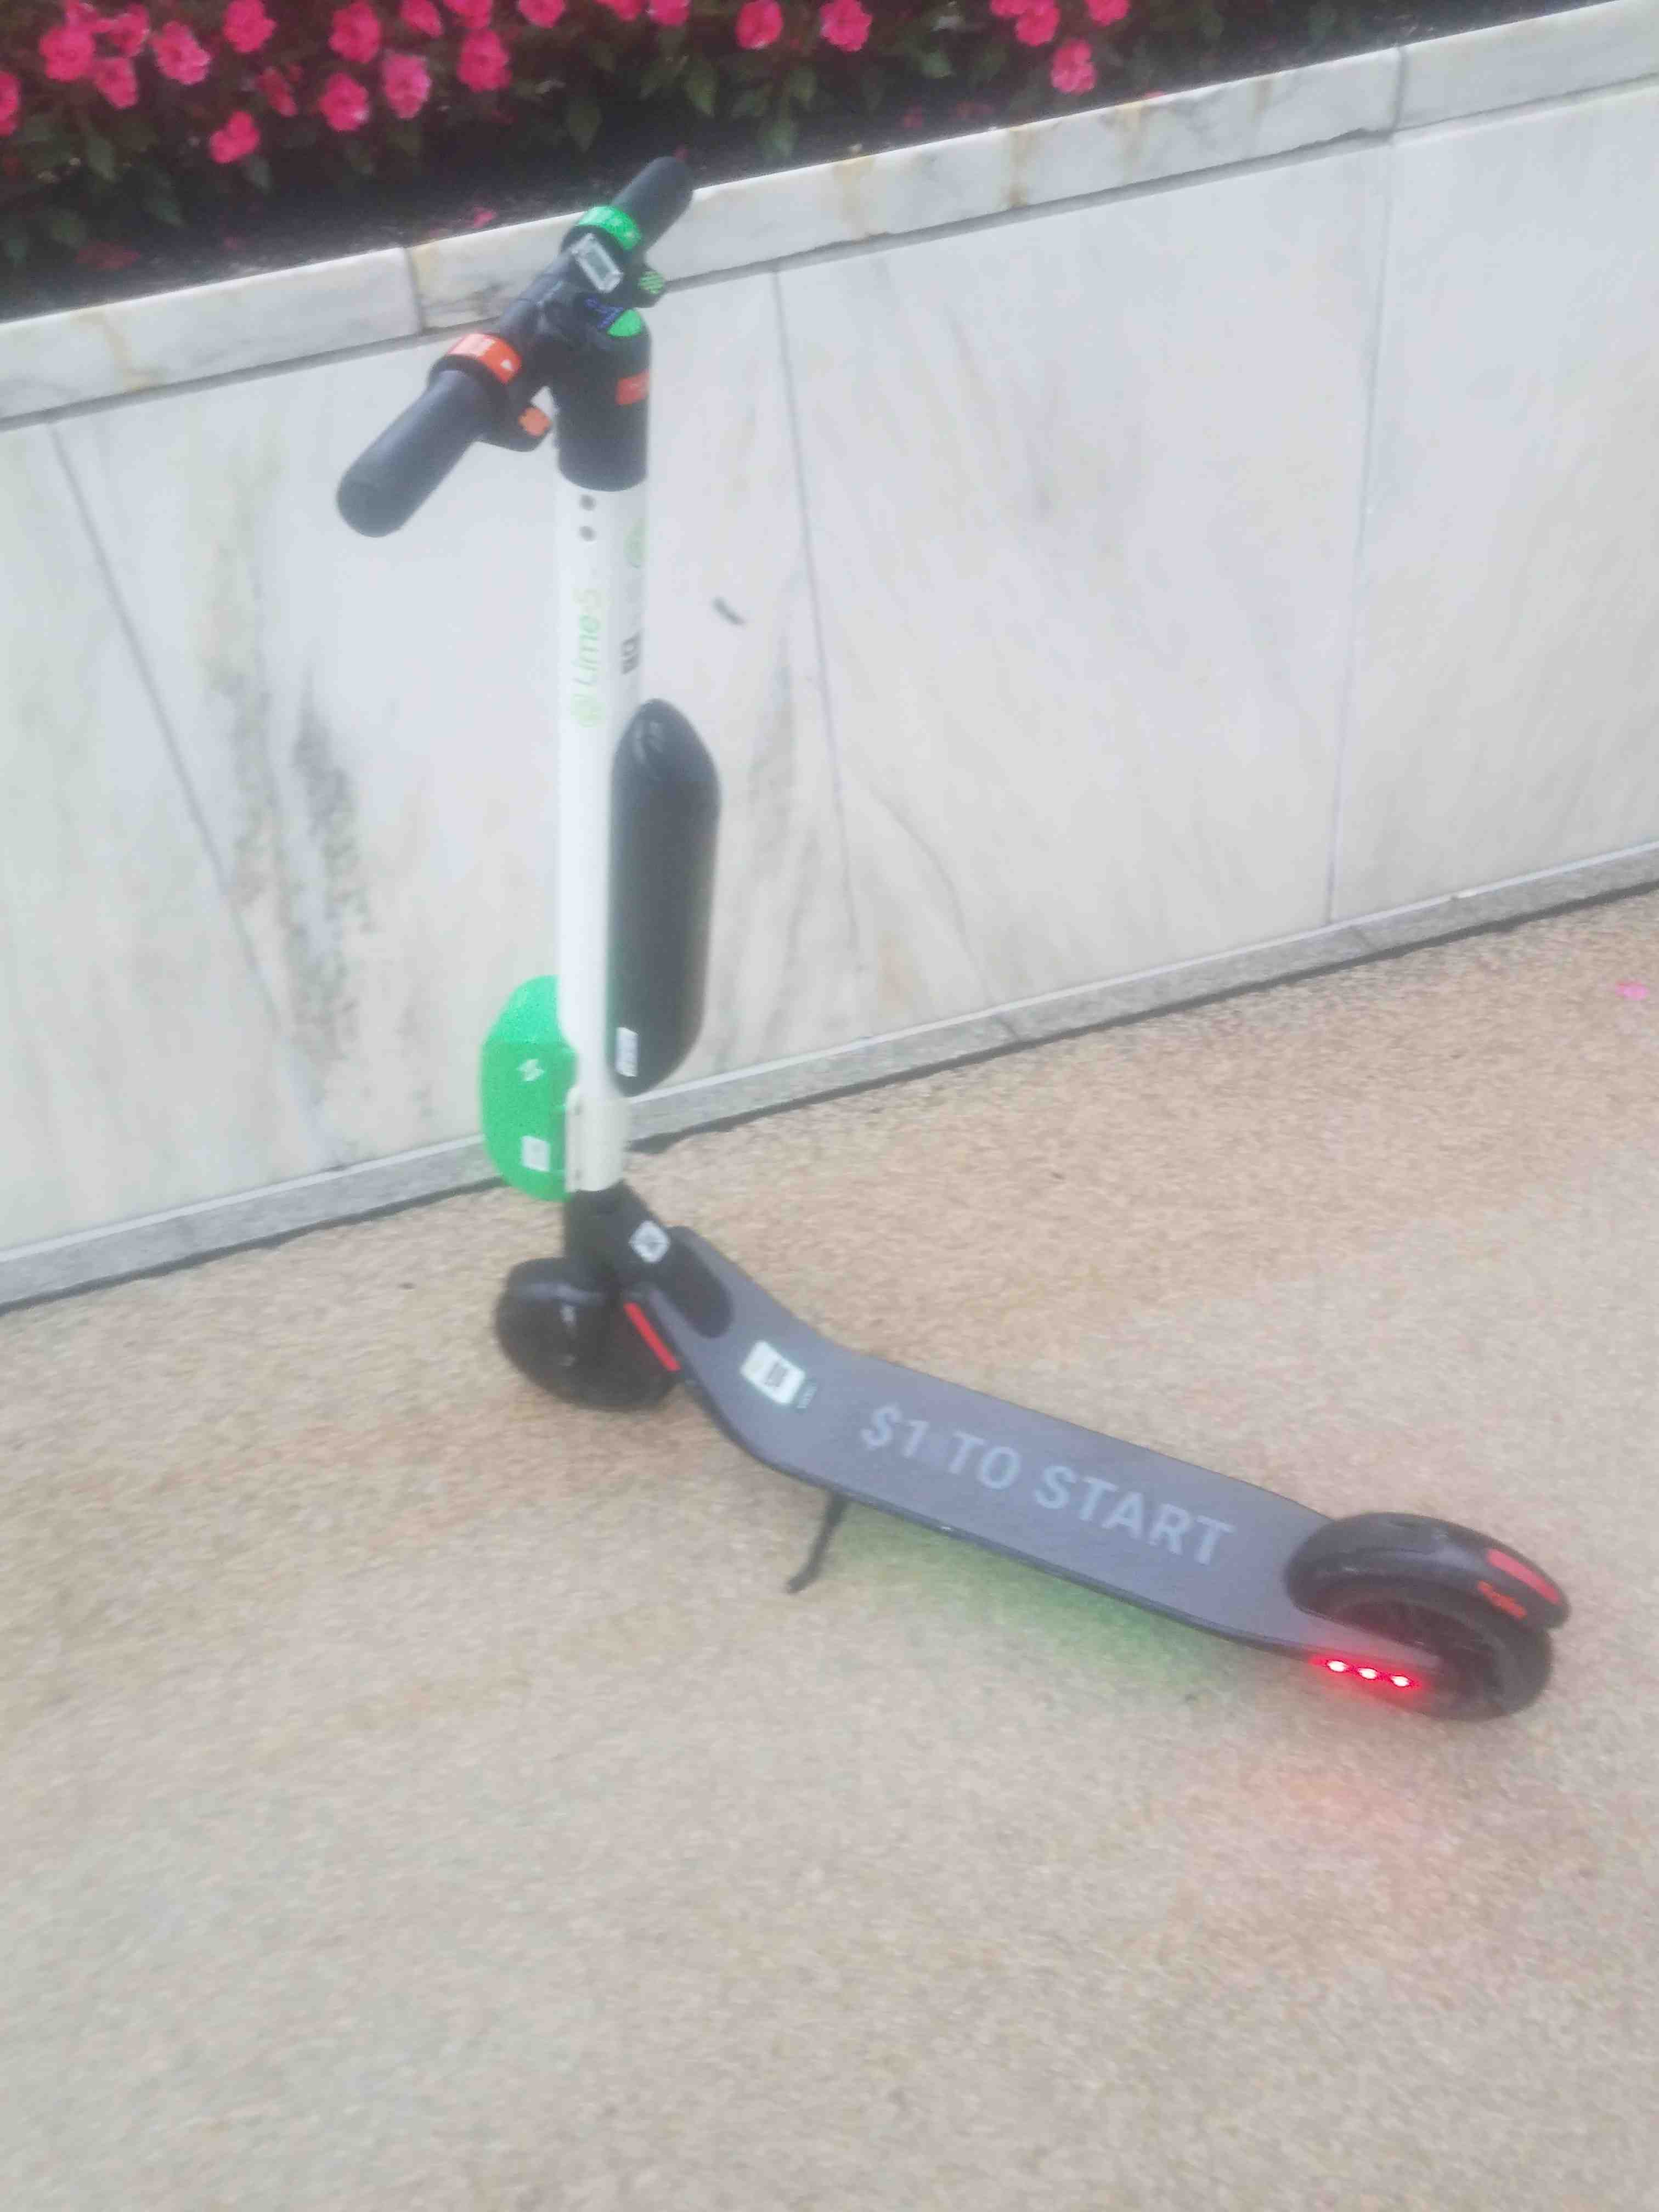scooter: (291, 117, 1593, 1756)
